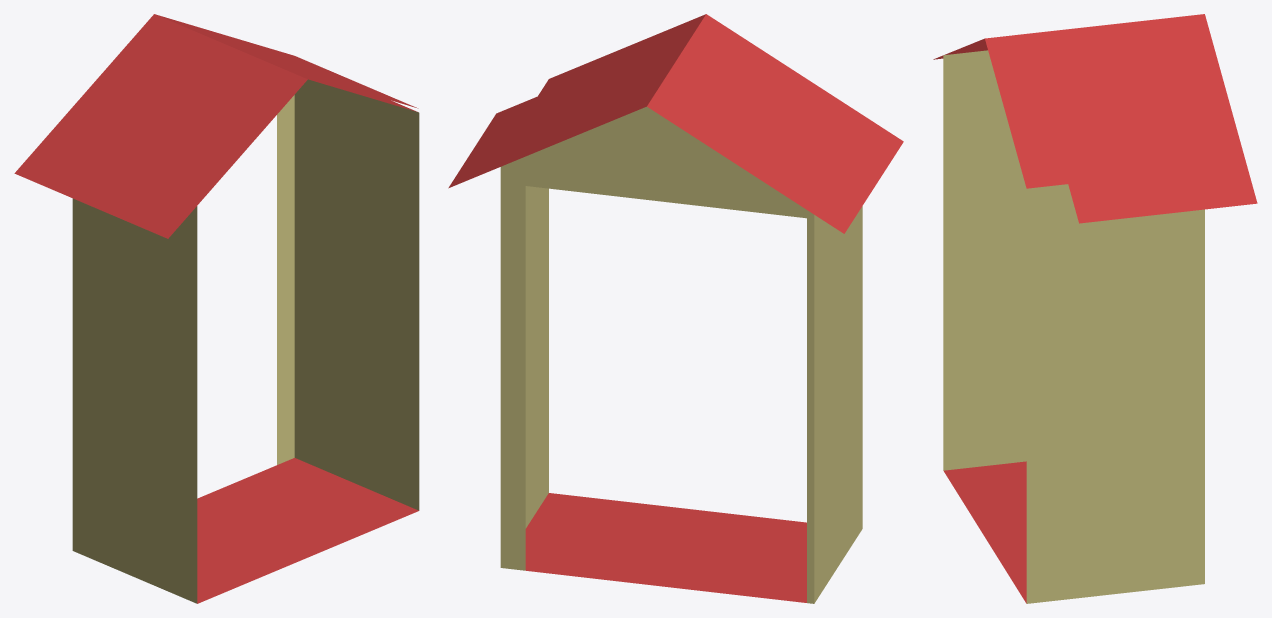
3 renders of one model, left to right at view 1: azimuth 30°, elevation 25°; view 2: azimuth 150°, elevation 25°; view 3: azimuth 270°, elevation 25°, orthographic. The views are drawn at different scales.
Bounding box in the file's own units: 7.77 × 5.67 × 9.6.
